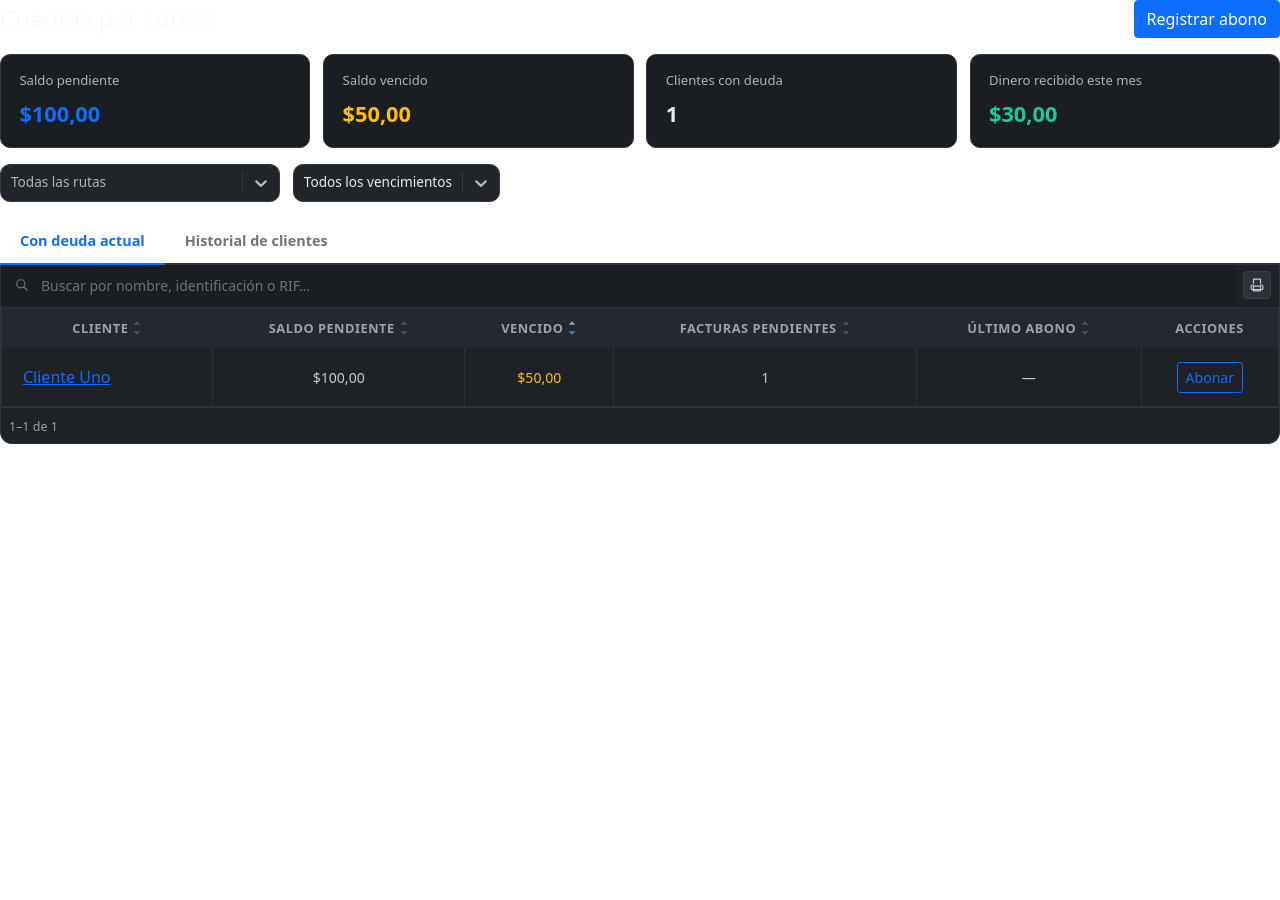
reports client selection errors instead of presenting an empty valid portfolio
Click the button "Registrar abono". click: (1207, 19)
box: [1134,0,1279,38]
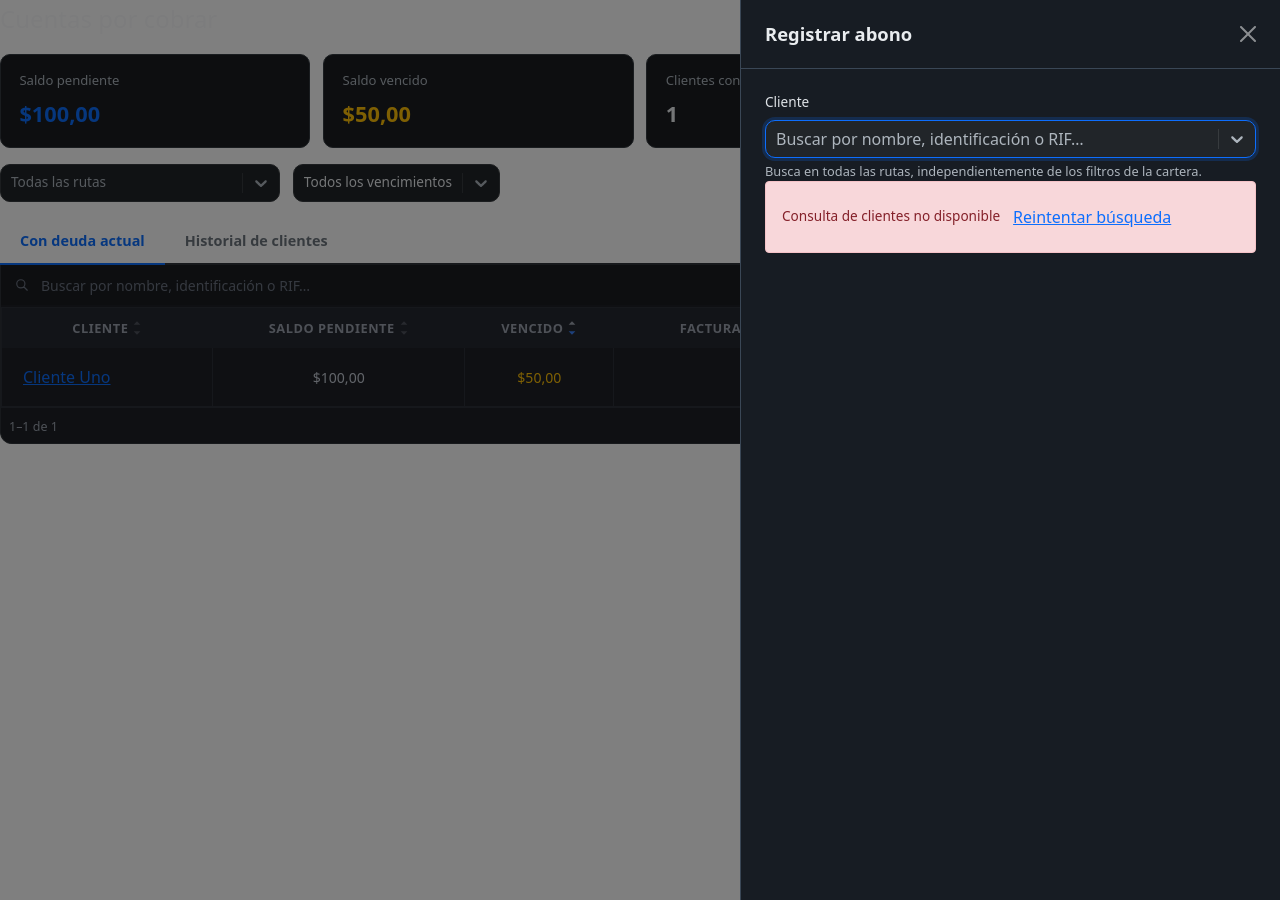
Expected: the message shows "Consulta de clientes no disponible", [782,206,1000,225]
